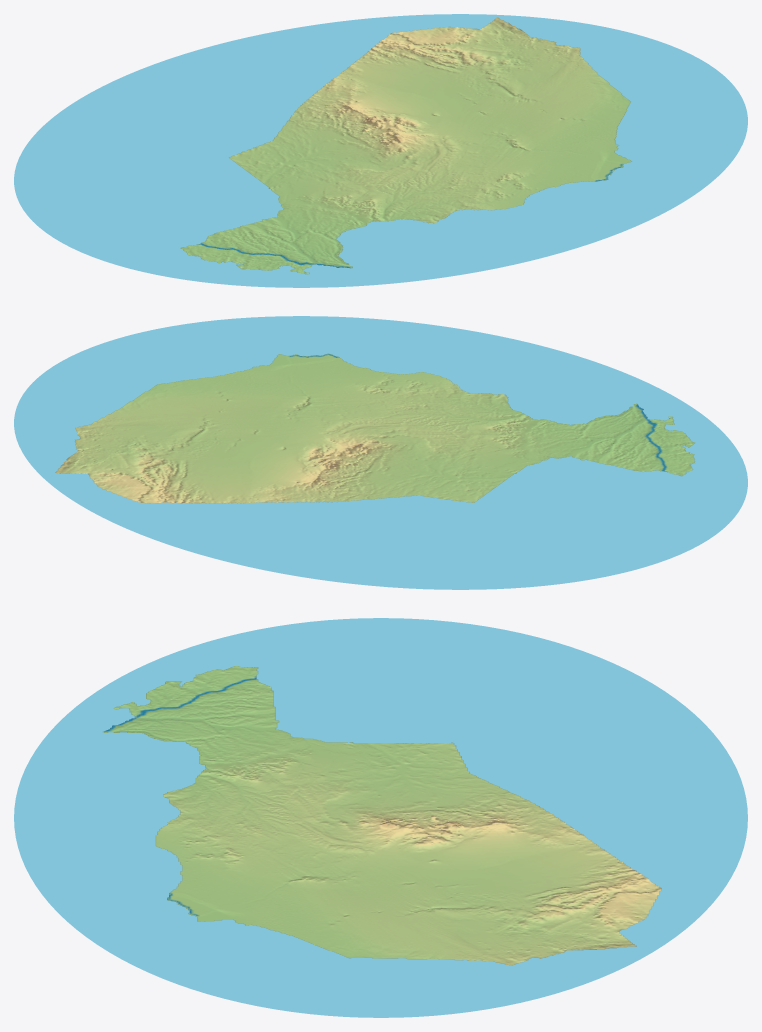
File: NER-terrain.glb
The picture shows the model from 3 angles, top to bottom: view 1: azimuth 30°, elevation 25°; view 2: azimuth 150°, elevation 25°; view 3: azimuth 270°, elevation 25°; orthographic projection. The views are drawn at different scales.
Visible parts, largest first — view 1: Relevo com hidrografia; view 2: Relevo com hidrografia; view 3: Relevo com hidrografia.
Boxes of the visible parts, box(x1,y1,x2,y2) form: Relevo com hidrografia: box(14, 14, 747, 287); Relevo com hidrografia: box(14, 316, 747, 589); Relevo com hidrografia: box(14, 618, 747, 1017).
Bounding box in the file's own units: 2.13 × 0.0177 × 1.65.
Materials: 2 (1 with a texture image).
